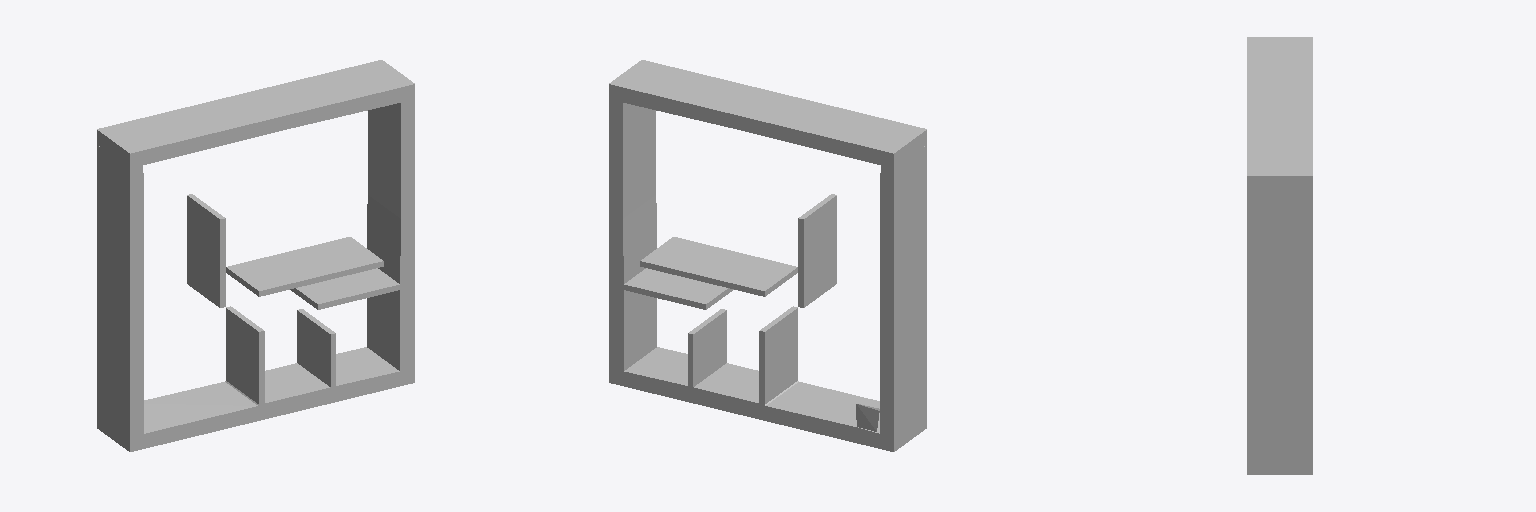
The model's file is Room7_vhacd.obj.
The picture shows the model from 3 angles: view 1: azimuth 30°, elevation 25°; view 2: azimuth 150°, elevation 25°; view 3: azimuth 270°, elevation 25°; orthographic projection.
Parts seen in each view (by area): view 1: convex_1, convex_0, convex_4, convex_3, convex_7, convex_10, convex_2, convex_11, convex_6, convex_5, convex_9, convex_8; view 2: convex_1, convex_0, convex_4, convex_3, convex_7, convex_10, convex_2, convex_11, convex_6, convex_5, convex_9, convex_8 (+1 smaller); view 3: convex_4, convex_2, convex_3, convex_0.
Boxes of the visible parts, x1=… form: convex_1: x1=97, y1=145, x2=143, y2=451; convex_0: x1=97, y1=92, x2=282, y2=168; convex_4: x1=367, y1=195, x2=414, y2=385; convex_3: x1=250, y1=60, x2=414, y2=129; convex_7: x1=225, y1=347, x2=399, y2=420; convex_10: x1=226, y1=237, x2=383, y2=296; convex_2: x1=368, y1=99, x2=414, y2=218; convex_11: x1=144, y1=382, x2=257, y2=448; convex_6: x1=187, y1=194, x2=225, y2=307; convex_5: x1=226, y1=306, x2=264, y2=404; convex_9: x1=290, y1=268, x2=399, y2=309; convex_8: x1=297, y1=309, x2=335, y2=386; convex_1: x1=880, y1=145, x2=926, y2=451; convex_0: x1=741, y1=92, x2=926, y2=168; convex_4: x1=609, y1=195, x2=656, y2=385; convex_3: x1=609, y1=60, x2=773, y2=129; convex_7: x1=624, y1=347, x2=798, y2=420; convex_10: x1=640, y1=237, x2=797, y2=296; convex_2: x1=609, y1=99, x2=655, y2=218; convex_11: x1=766, y1=382, x2=879, y2=448; convex_6: x1=798, y1=194, x2=836, y2=307; convex_5: x1=759, y1=306, x2=797, y2=404; convex_9: x1=624, y1=268, x2=733, y2=309; convex_8: x1=688, y1=309, x2=726, y2=386; convex_4: x1=1247, y1=308, x2=1312, y2=474; convex_2: x1=1247, y1=191, x2=1312, y2=307; convex_3: x1=1247, y1=111, x2=1312, y2=190; convex_0: x1=1247, y1=37, x2=1312, y2=110.
Bounding box in the file's own units: 1 × 1 × 0.2032.